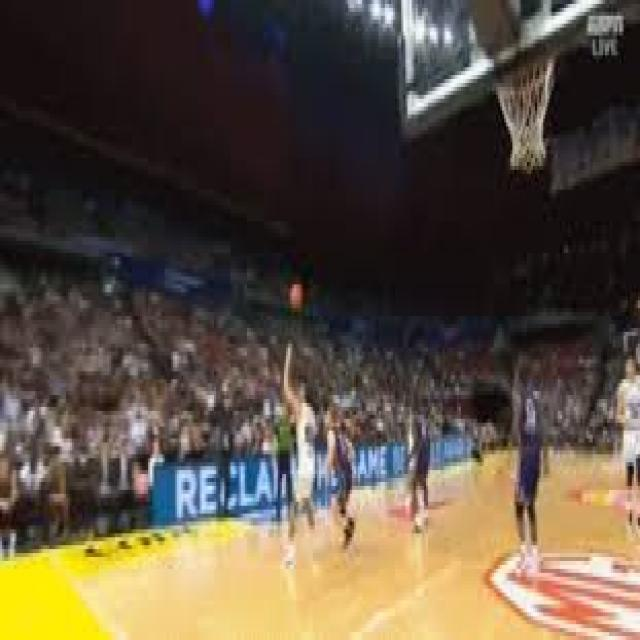rim: (288, 280, 305, 312)
